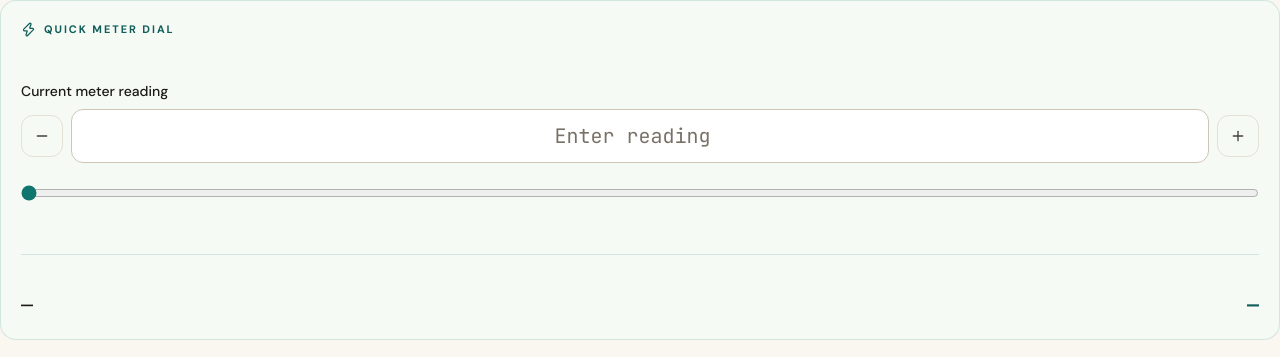
it: meter interaction › updates reading, units and rupees from the slider
Expected: the text with test id "test-amount" reads "—", x1=1247 y1=292 x2=1259 y2=318
Set the slider with test id "test-slider" to "1392" at x=203, y=193, box x1=21 y1=171 x2=1259 y2=215
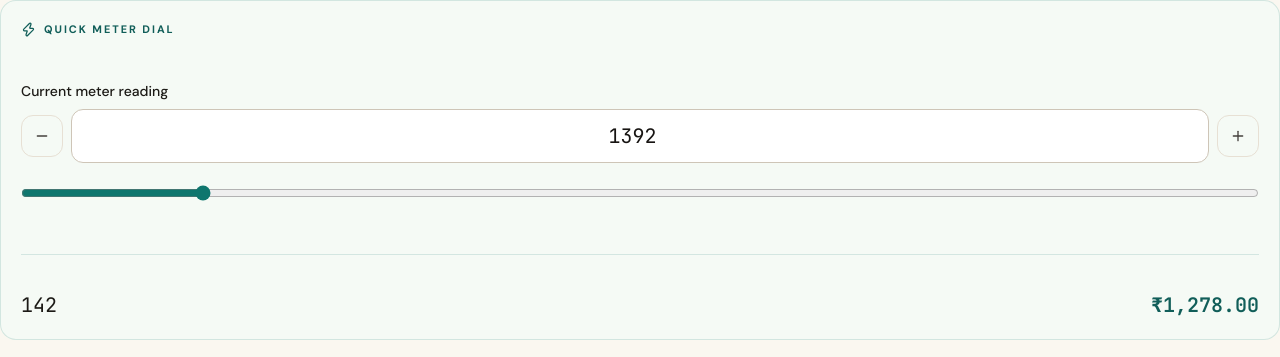
Expected: the number field with test id "test-current" holds "1392", x1=71 y1=109 x2=1209 y2=163
Expected: the text with test id "test-units" reads "142", x1=21 y1=292 x2=57 y2=318
Expected: the text with test id "test-amount" reads "₹1,278.00", x1=1151 y1=292 x2=1259 y2=318
Click the button with test id "test-increase" at x=1238, y=136, box x1=1217 y1=115 x2=1259 y2=157
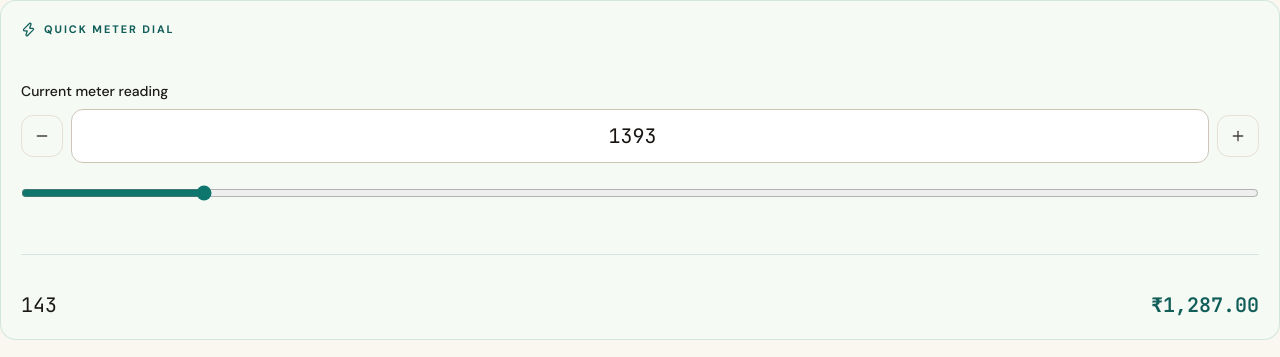
Expected: the number field with test id "test-current" holds "1393", x1=71 y1=109 x2=1209 y2=163
